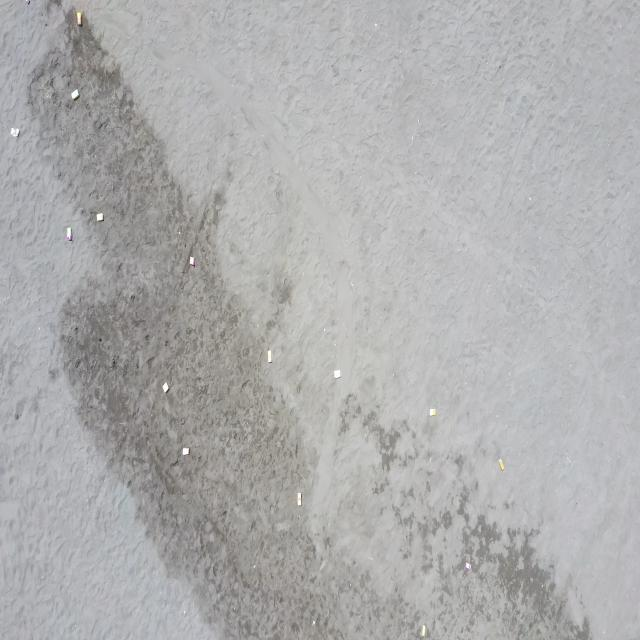retort-pouch: (70, 86, 80, 102), (9, 125, 20, 139), (266, 347, 274, 366), (76, 8, 83, 29), (162, 381, 170, 396), (420, 623, 428, 638), (66, 225, 73, 242), (498, 458, 505, 474), (296, 491, 303, 507), (182, 444, 190, 458), (189, 254, 196, 269), (429, 406, 437, 419), (333, 368, 341, 380), (96, 211, 103, 224), (465, 560, 472, 571)
